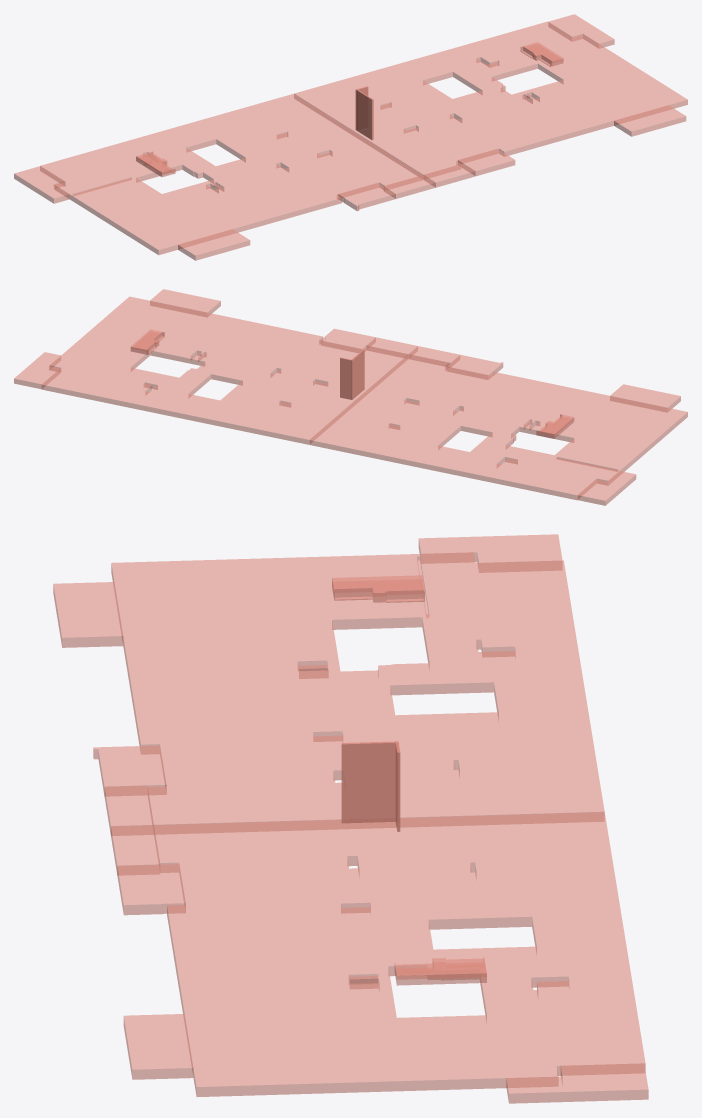
Rendered from Level_02_structure.glb.
3 renders of one model, top to bottom at view 1: azimuth 30°, elevation 25°; view 2: azimuth 150°, elevation 25°; view 3: azimuth 270°, elevation 25°, orthographic. The views are drawn at different scales.
Visible parts, largest first — view 1: world; view 2: world; view 3: world.
Part boxes in pixels (bbox=[...]): world: bbox=[14, 14, 687, 260]; world: bbox=[14, 289, 687, 505]; world: bbox=[53, 534, 648, 1103].
Size of the model in its own units: 41.71 by 3.1 by 18.76.
